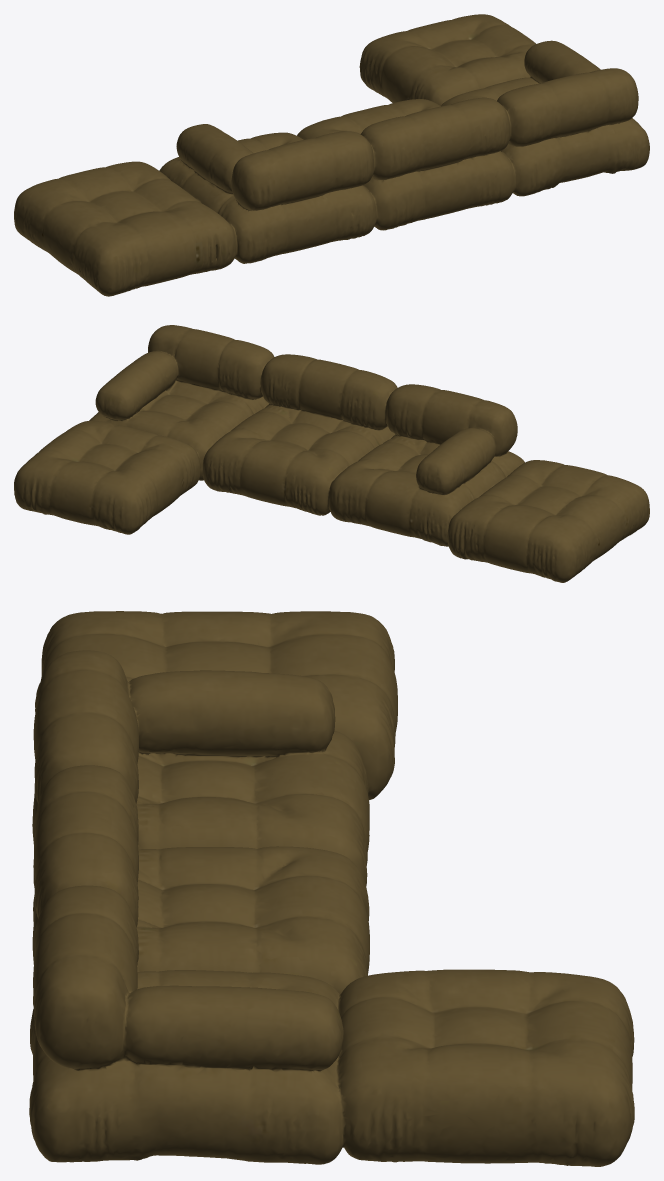
File: item-4.glb
The picture shows the model from 3 angles, top to bottom: view 1: azimuth 30°, elevation 25°; view 2: azimuth 150°, elevation 25°; view 3: azimuth 270°, elevation 25°; orthographic projection. The views are drawn at different scales.
Parts seen in each view (by area): view 1: geometry_0; view 2: geometry_0; view 3: geometry_0.
Part boxes in pixels (x1,y1,x2,y2): geometry_0: (14,14,649,296); geometry_0: (14,325,649,582); geometry_0: (29,611,634,1166).
Size of the model in its own units: 1 by 0.1791 by 0.5232.
1 material, 1 textured.
